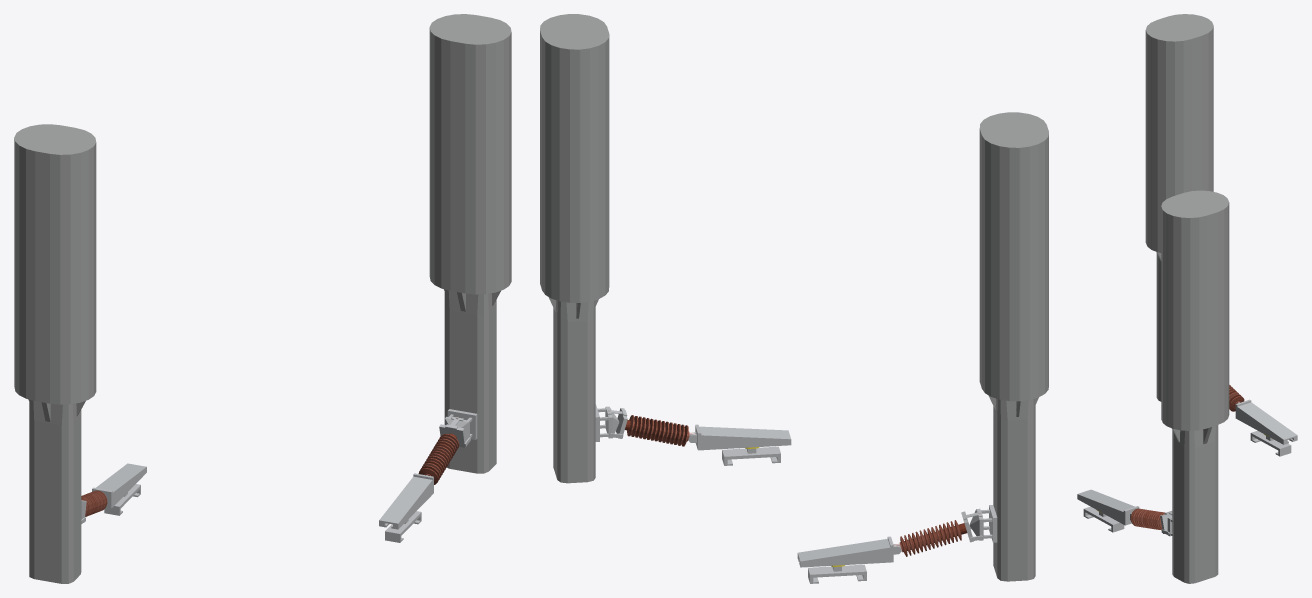
Rendered from catenary_rigid_0d_45d_hs.obj.
The picture shows the model from 3 angles, left to right: view 1: azimuth 30°, elevation 25°; view 2: azimuth 150°, elevation 25°; view 3: azimuth 270°, elevation 25°; orthographic projection. The views are drawn at different scales.
Visible parts, largest first — view 1: 1.001, 1.002; view 2: 1.001, 1.002; view 3: 1.001, 1.002.
Part boxes in pixels (x1=…): 1.001: x1=379, y1=14, x2=511, y2=542; 1.002: x1=14, y1=124, x2=146, y2=583; 1.001: x1=540, y1=14, x2=791, y2=483; 1.002: x1=797, y1=112, x2=1048, y2=583; 1.001: x1=1077, y1=190, x2=1229, y2=583; 1.002: x1=1145, y1=14, x2=1297, y2=456.
Size of the model in its own units: 2.13 by 1.8 by 0.9743.
2 materials, 2 textured.
